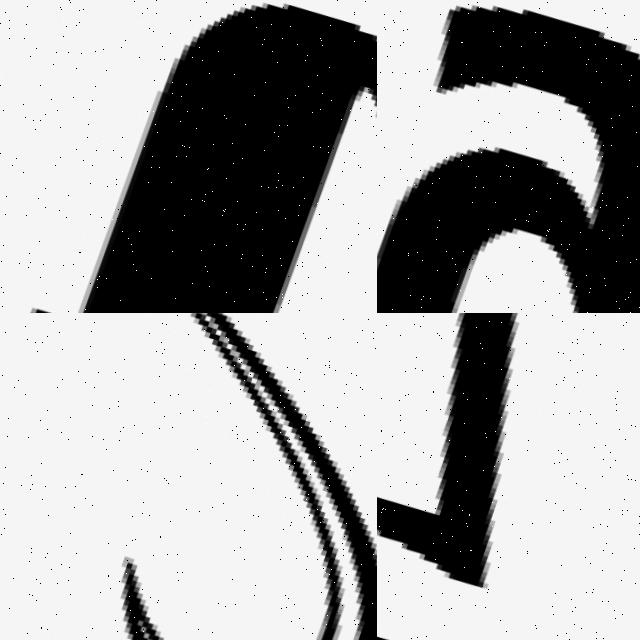2: (0, 313, 377, 640)
G: (377, 0, 640, 313)
L: (377, 313, 640, 614)
T: (0, 0, 377, 313)
